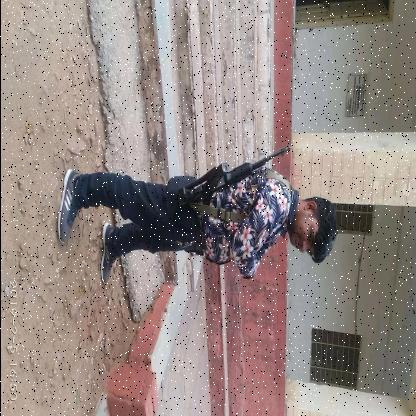rifle: (174, 144, 290, 212)
